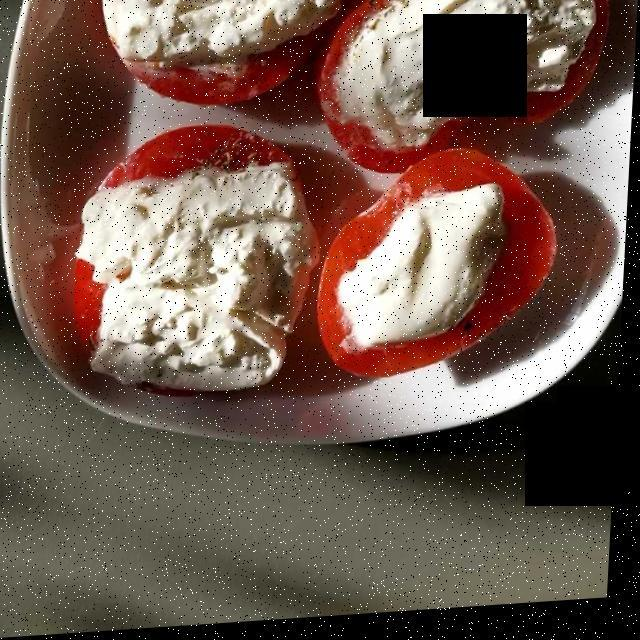cheese: (87, 162, 306, 397)
tomato: (315, 146, 565, 381), (336, 189, 510, 352)
